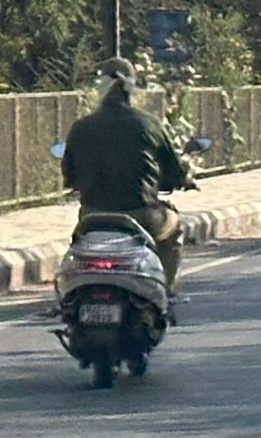BikeWithRider: (37, 49, 218, 394)
NoHelmet: (89, 51, 144, 111)
